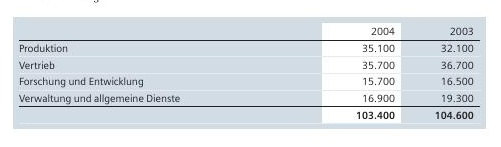table: (0, 0, 501, 147)
